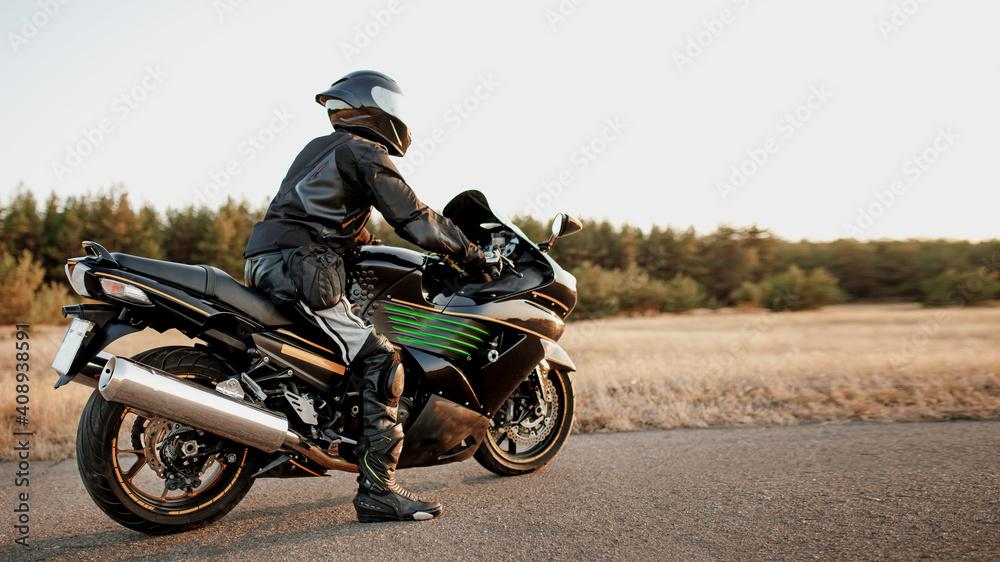helmet: (314, 69, 414, 158)
